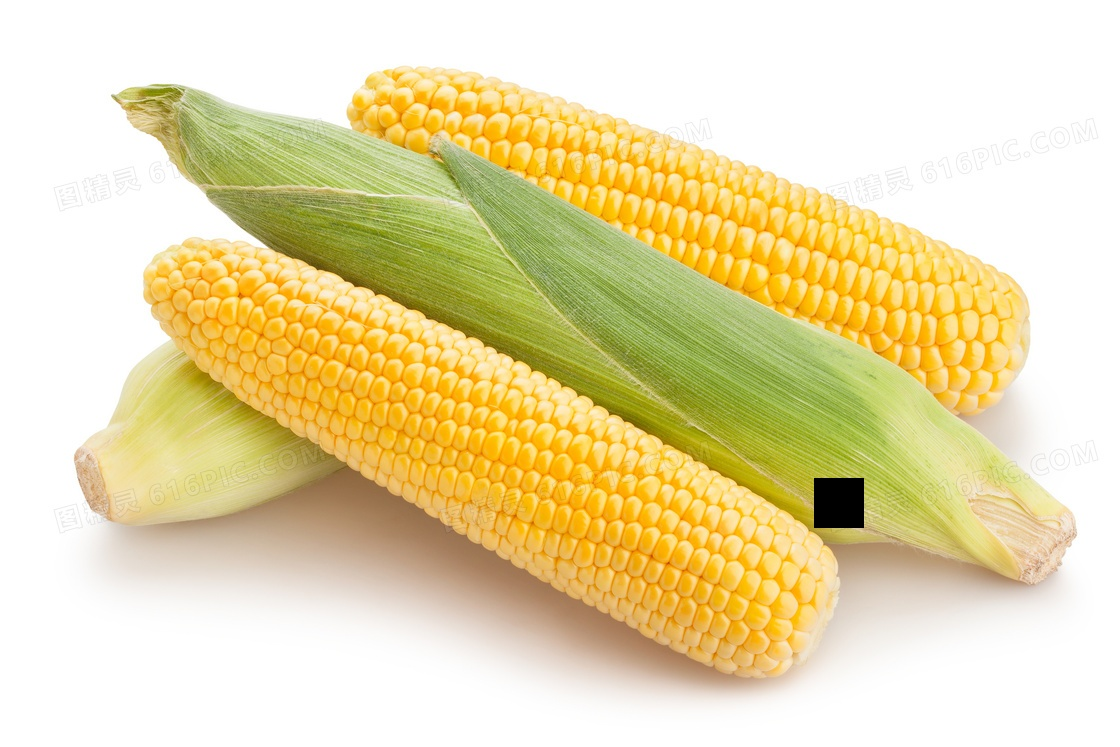corn: (140, 236, 840, 678), (347, 65, 1031, 419)
corn_plant: (118, 95, 1073, 578)
